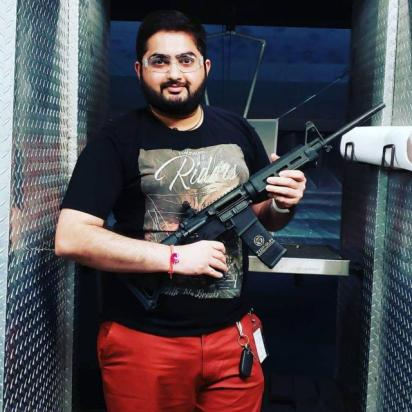Gun: (156, 99, 388, 287)
